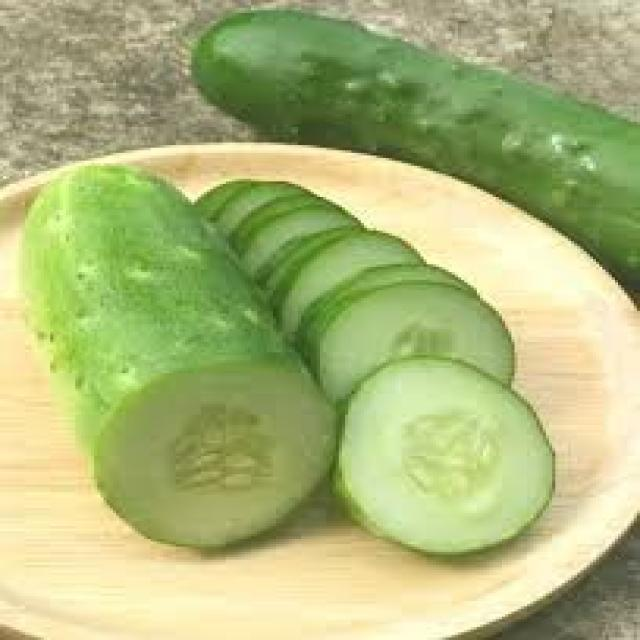cucumber: (18, 158, 342, 548)
